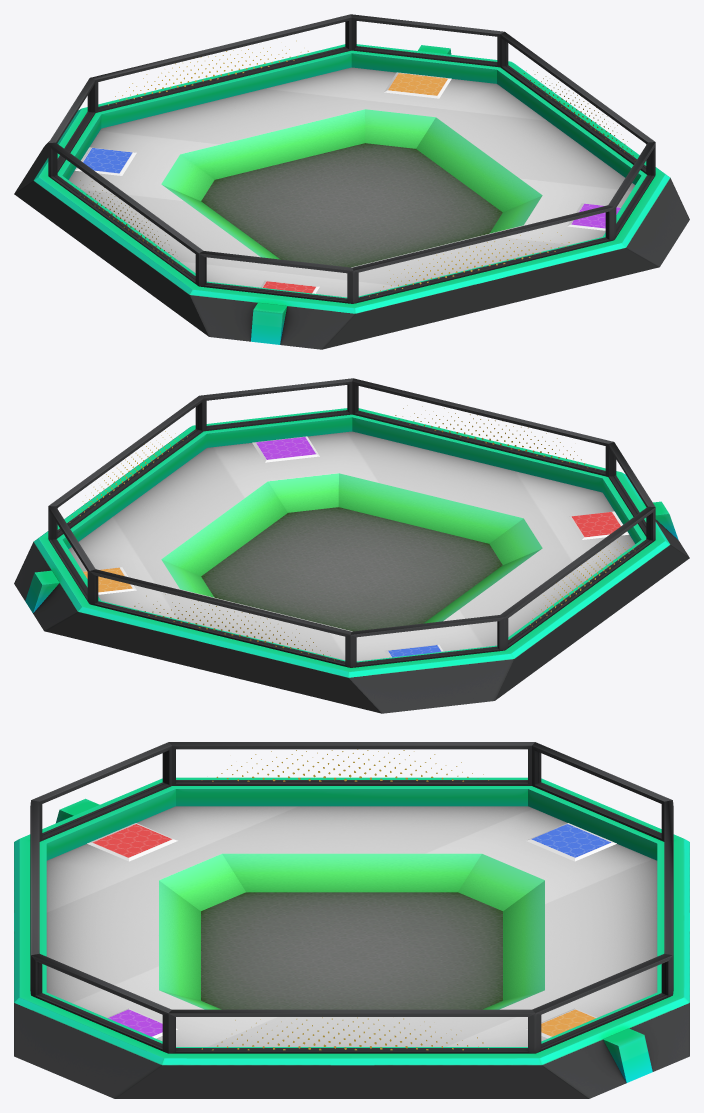
Rendered from stage_3.fbx.
3 renders of one model, top to bottom at view 1: azimuth 30°, elevation 25°; view 2: azimuth 150°, elevation 25°; view 3: azimuth 270°, elevation 25°, orthographic. The views are drawn at different scales.
Parts seen in each view (by area): view 1: stage_3, Cube.029, Cube.028, Cube.030, Cube.031, Cube.034, Cube.032, Cube.035, Cube.033; view 2: stage_3, Cube.028, Cube.029, Cube.030, Cube.031, Cube.033, Cube.035, Cube.032, Cube.034; view 3: stage_3, Cube.031, Cube.030, Cube.032, Cube.035, Cube.033, Cube.034, Cube.028, Cube.029.
Part boxes in pixels (x1=…): stage_3: x1=14, y1=44, x2=689, y2=349; Cube.029: x1=352, y1=205, x2=614, y2=303; Cube.028: x1=90, y1=14, x2=351, y2=112; Cube.030: x1=48, y1=142, x2=203, y2=286; Cube.031: x1=500, y1=32, x2=654, y2=174; Cube.034: x1=199, y1=251, x2=353, y2=303; Cube.032: x1=351, y1=14, x2=504, y2=67; Cube.035: x1=608, y1=142, x2=655, y2=239; Cube.033: x1=48, y1=78, x2=95, y2=172; stage_3: x1=14, y1=408, x2=689, y2=713; Cube.028: x1=89, y1=569, x2=351, y2=667; Cube.029: x1=352, y1=378, x2=613, y2=476; Cube.030: x1=500, y1=506, x2=655, y2=650; Cube.031: x1=49, y1=396, x2=203, y2=538; Cube.033: x1=350, y1=615, x2=504, y2=667; Cube.035: x1=199, y1=378, x2=352, y2=431; Cube.032: x1=48, y1=506, x2=95, y2=603; Cube.034: x1=608, y1=442, x2=655, y2=536; stage_3: x1=14, y1=777, x2=689, y2=1098; Cube.031: x1=168, y1=1009, x2=535, y2=1053; Cube.030: x1=169, y1=742, x2=534, y2=785; Cube.032: x1=532, y1=953, x2=672, y2=1053; Cube.035: x1=31, y1=953, x2=171, y2=1053; Cube.033: x1=532, y1=742, x2=672, y2=841; Cube.034: x1=31, y1=742, x2=171, y2=841; Cube.028: x1=664, y1=800, x2=673, y2=993; Cube.029: x1=30, y1=800, x2=39, y2=993.
Size of the model in its own units: 3846 by 492 by 3846.
